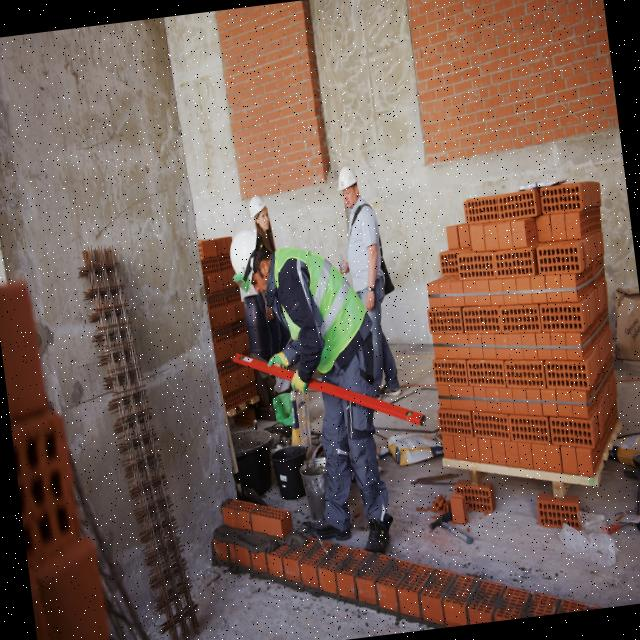Helmet: (227, 229, 267, 296), (334, 167, 360, 198), (249, 197, 268, 220)
Jacket: (274, 250, 362, 369)
NoJacket: (346, 202, 384, 292)
